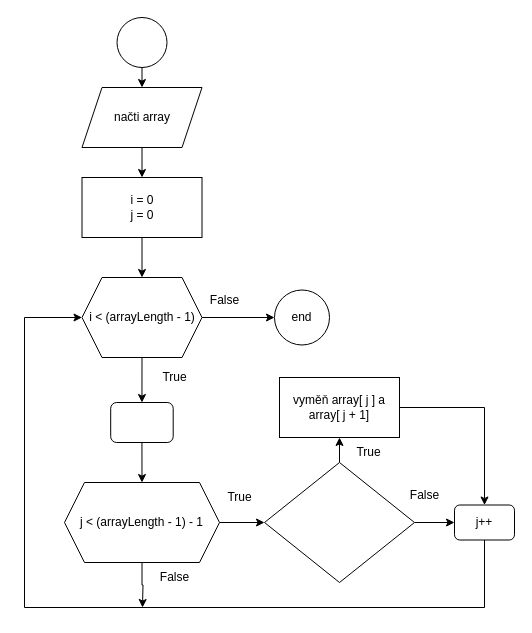
Image size: 532x633. Some labels were removed from this diagram. The shapes that lost their labels are listed below. From the top down, each one's box as (x1, y1, x2, y2) in pixels, then its label:
(116, 16, 167, 68): start
(110, 402, 173, 442): i ++
(264, 462, 414, 582): array[ j ] > array[ j + 1]
